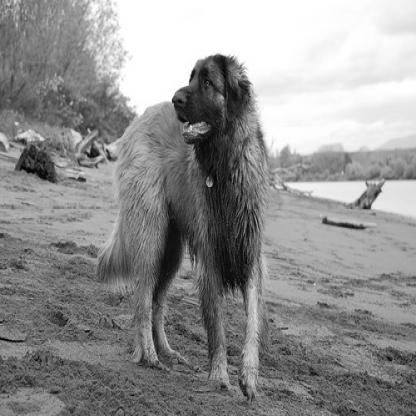Leonberger: (90, 43, 301, 414)
